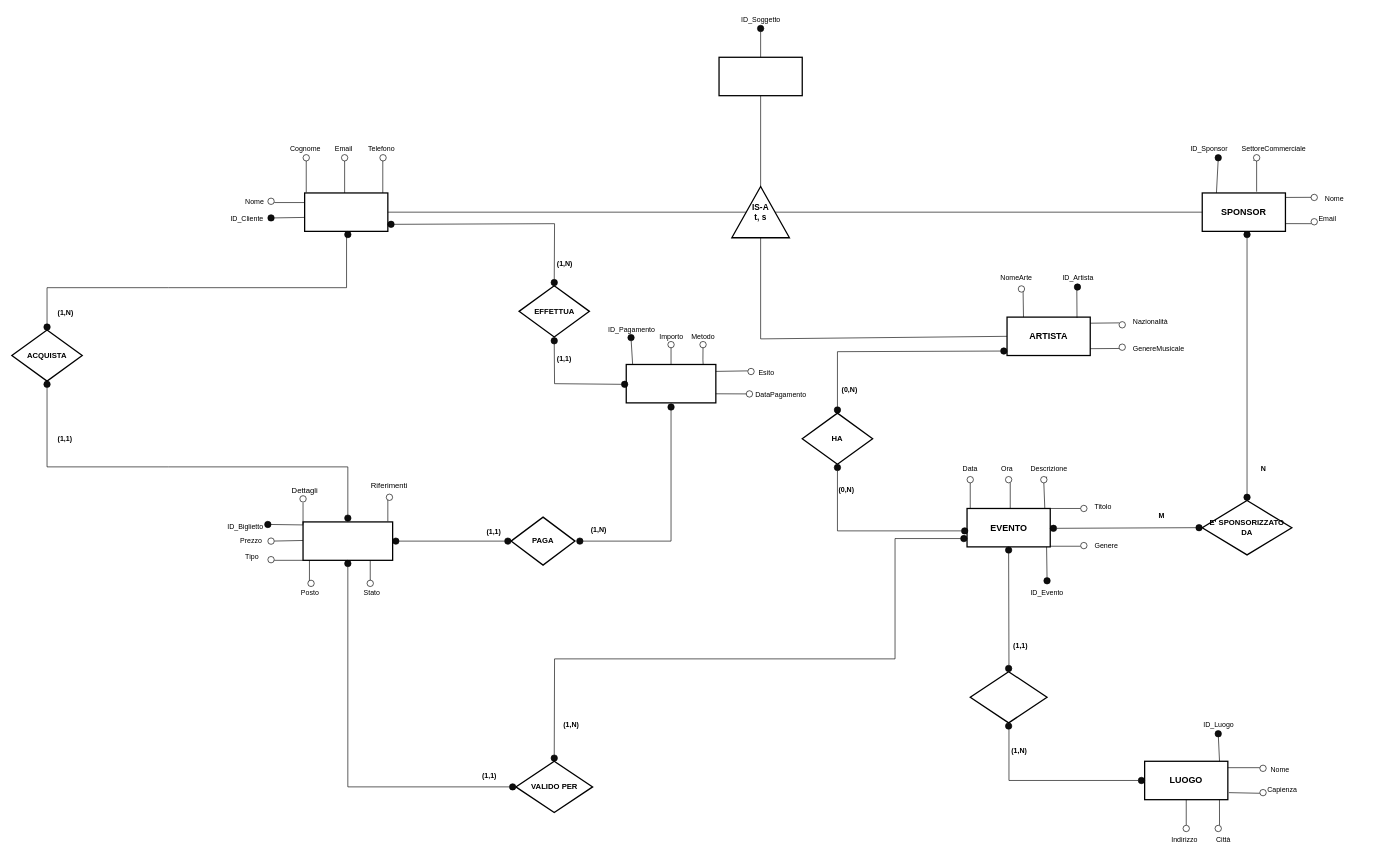
This 1376x856 diagram has some shape labels left out. Each missing label, with the centre of its shape:
"BIGLIETTO" belongs at (x=347, y=541).
"CLIENTE" belongs at (x=346, y=212).
"PAGAMENTO" belongs at (x=670, y=383).
"SI SVOLGE IN" belongs at (x=1008, y=697).
"SOGGETTO" belongs at (x=760, y=76).
